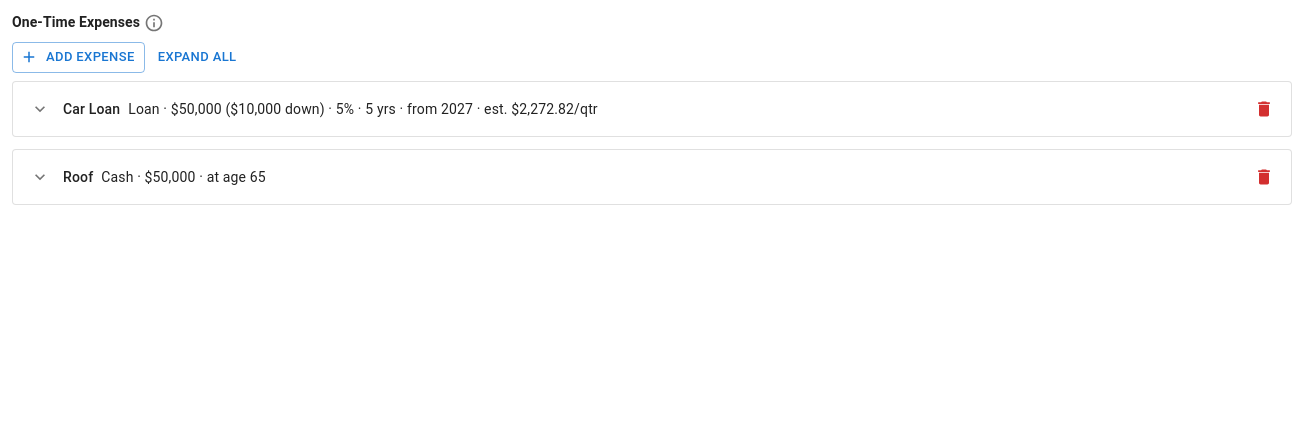
it: OneTimeExpenseInput › collapsible entries (T003-072) › expands all entries at once
What coordinates should you click on to do the following:
click the button "Expand all"
I would click on:
 (197, 57)
Its box is top-left (153, 42), bottom-right (242, 73).
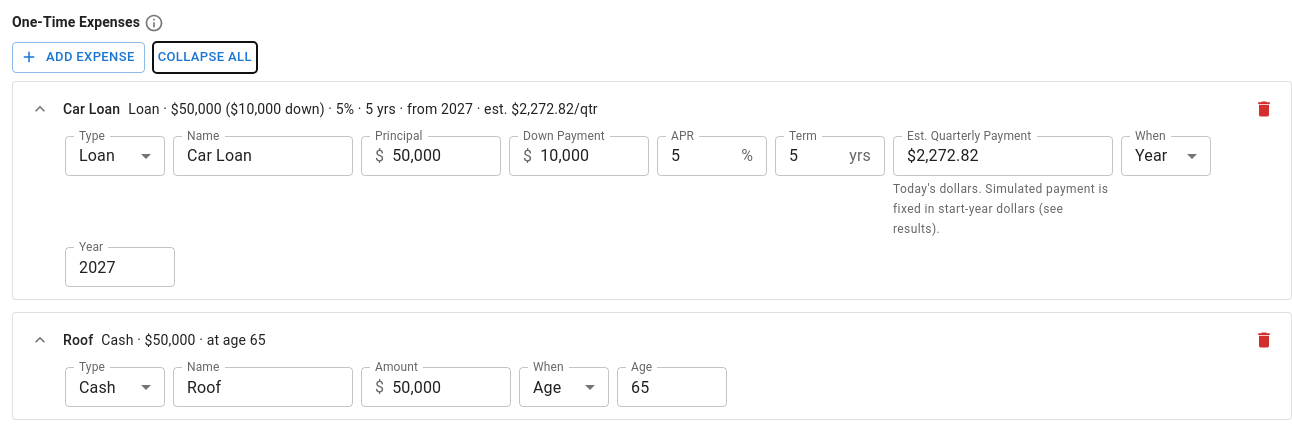
Now the button named "Collapse Car Loan" is expanded, box top-left (25, 94), bottom-right (55, 124)
